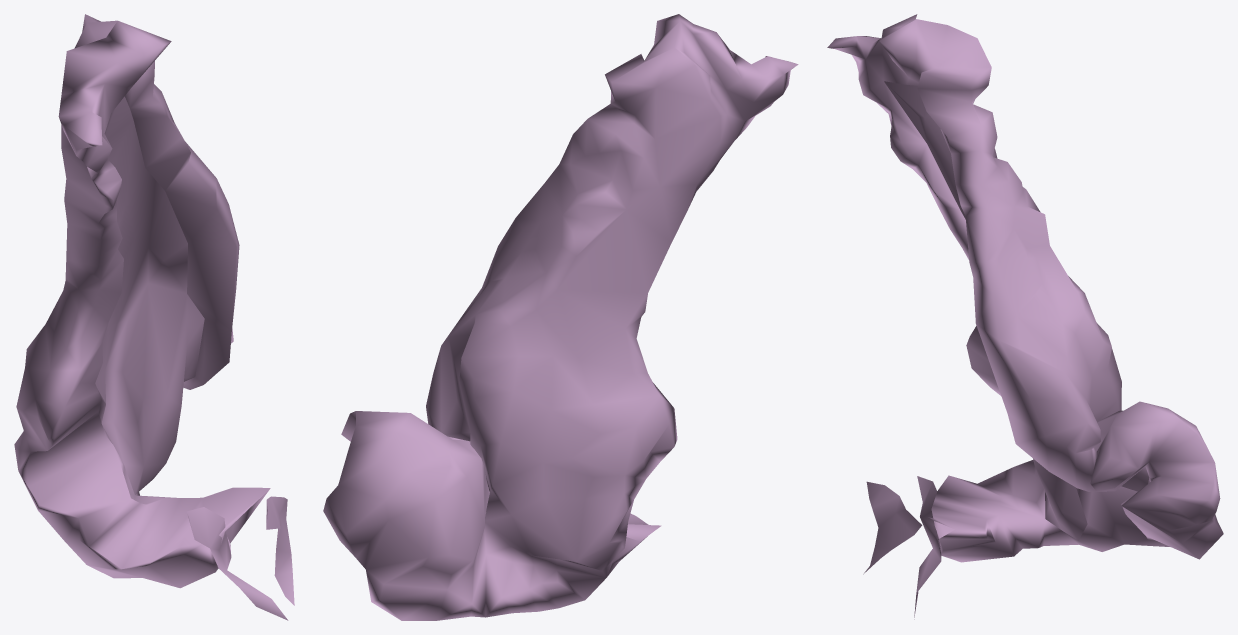
3 views of the same model, side by side, from view 1: azimuth 30°, elevation 25°; view 2: azimuth 150°, elevation 25°; view 3: azimuth 270°, elevation 25° (orthographic). The views are drawn at different scales.
Visible parts, largest first — view 1: 左侧枕颞内侧回（海马旁回）; view 2: 左侧枕颞内侧回（海马旁回）; view 3: 左侧枕颞内侧回（海马旁回）.
Part boxes in pixels (x1,y1,x2,y2): 左侧枕颞内侧回（海马旁回）: (14,14,294,620); 左侧枕颞内侧回（海马旁回）: (323,14,798,620); 左侧枕颞内侧回（海马旁回）: (827,14,1223,619).
Bounding box in the file's own units: 0.0465 × 0.0866 × 0.0584.
